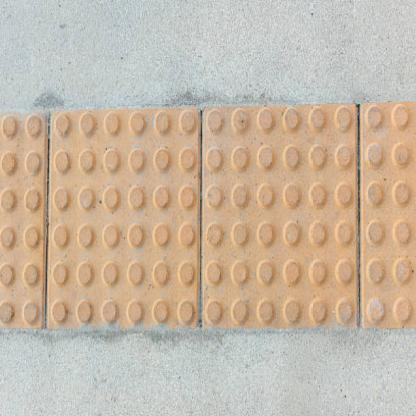podotacti: (1, 100, 414, 325)
